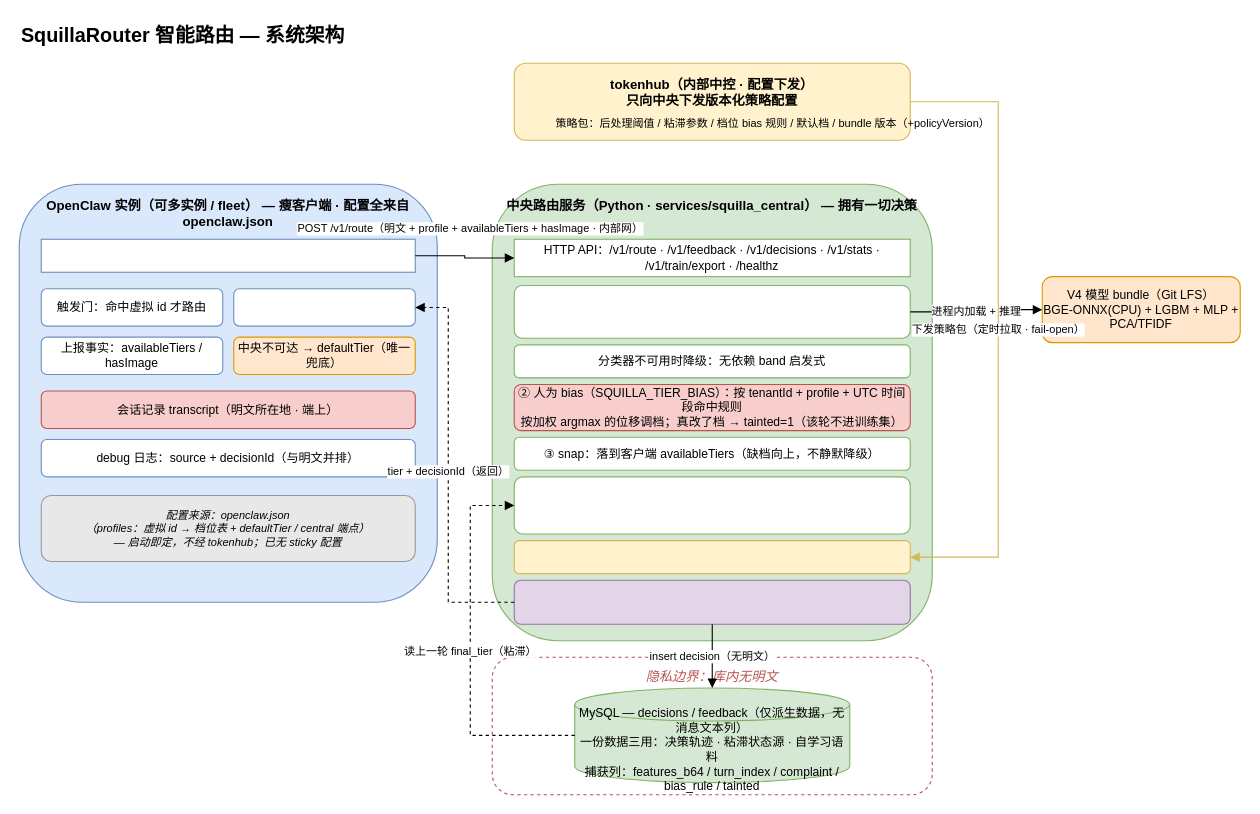
The diagram is 1260 pixels wide and 814 high, and some of its shapes have lost their labels. The centre of each missing label's shape, as x and y in pixels:
"configSource：策略配置快照（单槽 · 后台刷新 · fail-open）" goes at point (711, 557).
"squilla-router 插件（before_model_resolve）— 虚拟 id 触发 · 纯透传 · 零判定" goes at point (227, 255).
"tier→模型：纯查表（不 snap）" goes at point (324, 307).
"① 分类 V4Classifier（真实 V4 Phase3） 390维特征 + LGBM+MLP 集成 + 后处理｜图片轮跳过分类器→最强可用档" goes at point (711, 311).
"④ KV-cache 粘滞：短续轮不低于上一轮档位 上一轮档位 = 决策库最新 final_tier（多实例/重启均正确） taint 沿粘滞链传播" goes at point (711, 505).
"响应（通用协议）：{ tier=实际服务档, decisionId, confidence, policyVersion, meta }" goes at point (711, 601).
